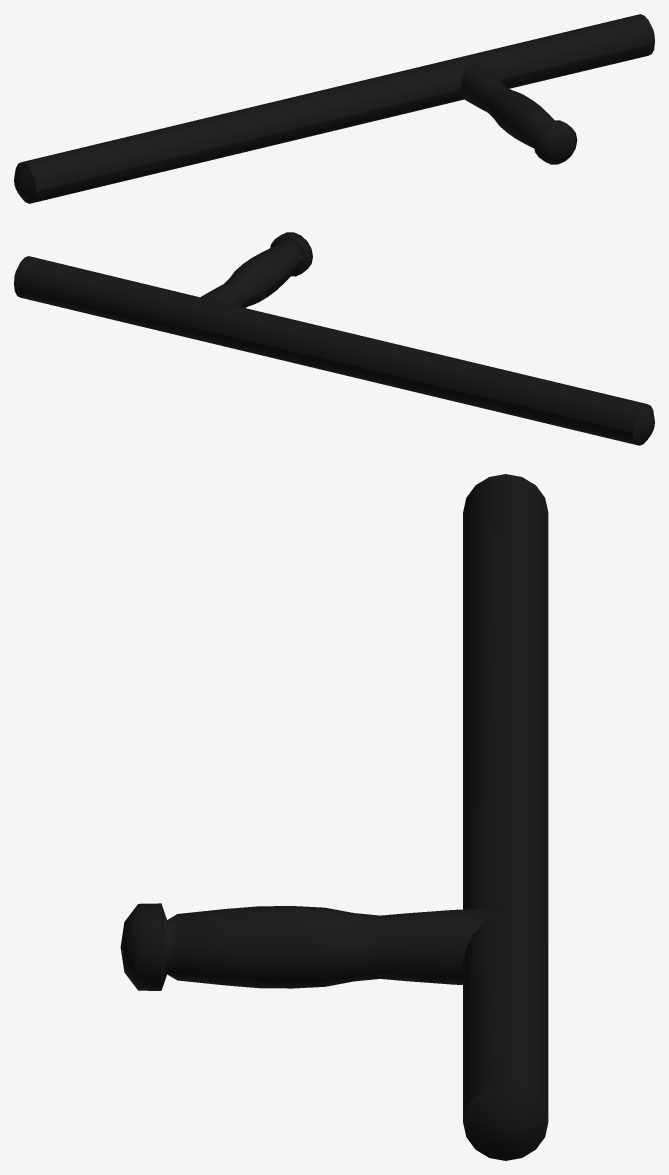
Rendered from Baton.FBX.
The picture shows the model from 3 angles, top to bottom: view 1: azimuth 30°, elevation 25°; view 2: azimuth 150°, elevation 25°; view 3: azimuth 270°, elevation 25°; orthographic projection. The views are drawn at different scales.
Parts seen in each view (by area): view 1: baton; view 2: baton; view 3: baton.
Part boxes in pixels (x1=…): baton: x1=14, y1=14, x2=654, y2=203; baton: x1=14, y1=232, x2=654, y2=445; baton: x1=120, y1=474, x2=548, y2=1160.
Bounding box in the file's own units: 57.26 × 3.58 × 16.69.
Materials: 1 (1 with a texture image).
